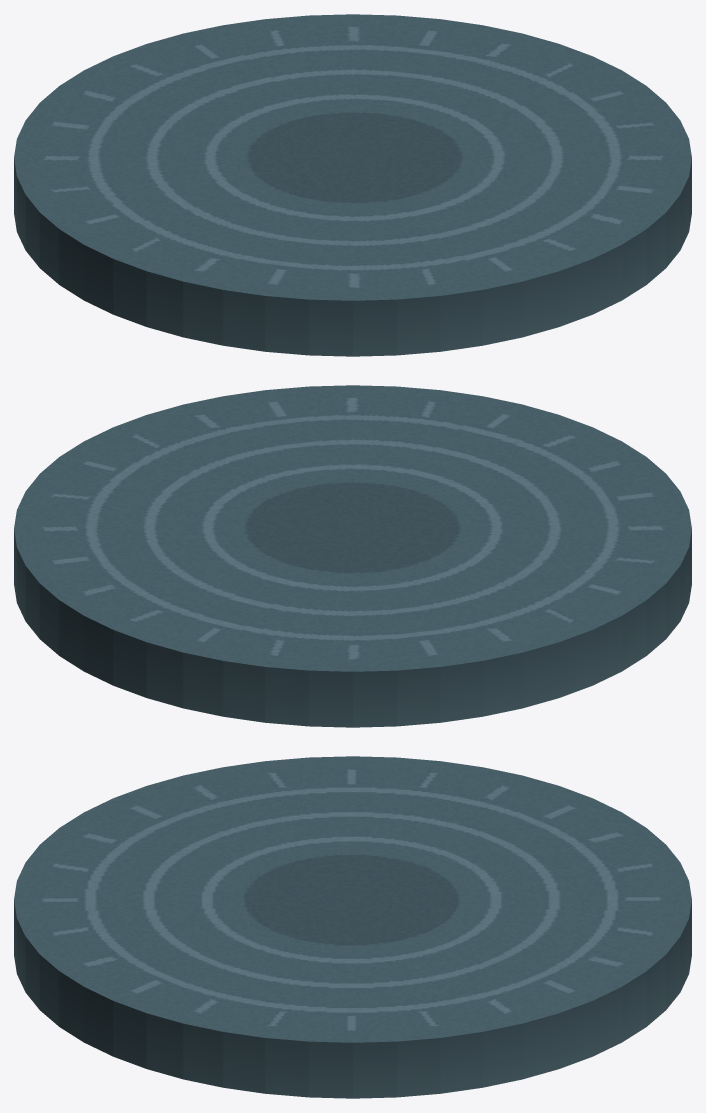
Rendered from manhole.glb.
3 renders of one model, top to bottom at view 1: azimuth 30°, elevation 25°; view 2: azimuth 150°, elevation 25°; view 3: azimuth 270°, elevation 25°, orthographic.
Visible parts, largest first — view 1: manhole; view 2: manhole; view 3: manhole.
Boxes of the visible parts, box(x1,y1,x2,y2) form: manhole: box(14, 14, 691, 356); manhole: box(14, 385, 691, 727); manhole: box(14, 756, 691, 1098).
Size of the model in its own units: 2.2 by 0.2 by 2.2.
Materials: 2 (2 with a texture image).
